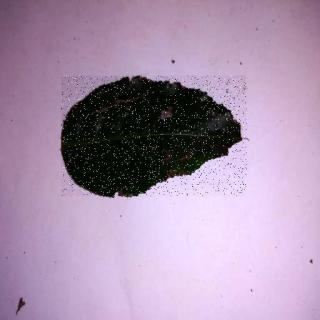Anthracnose: (63, 77, 248, 197)
